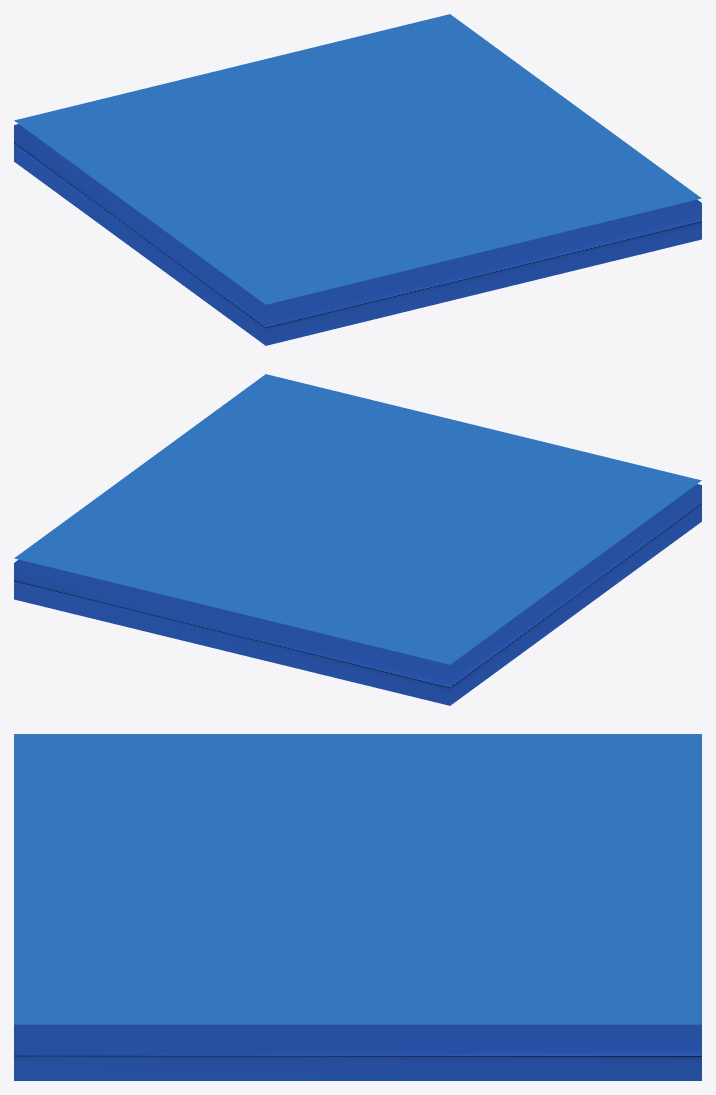
Rendered from water.glb.
3 views of the same model, one above another, from view 1: azimuth 30°, elevation 25°; view 2: azimuth 150°, elevation 25°; view 3: azimuth 270°, elevation 25° (orthographic). The views are drawn at different scales.
Visible parts, largest first — view 1: Water.001; view 2: Water.001; view 3: Water.001.
Boxes of the visible parts, bbox=[...] form: Water.001: bbox=[14, 14, 701, 345]; Water.001: bbox=[14, 374, 701, 705]; Water.001: bbox=[14, 734, 701, 1080].
Size of the model in its own units: 1 by 0.09 by 1.
